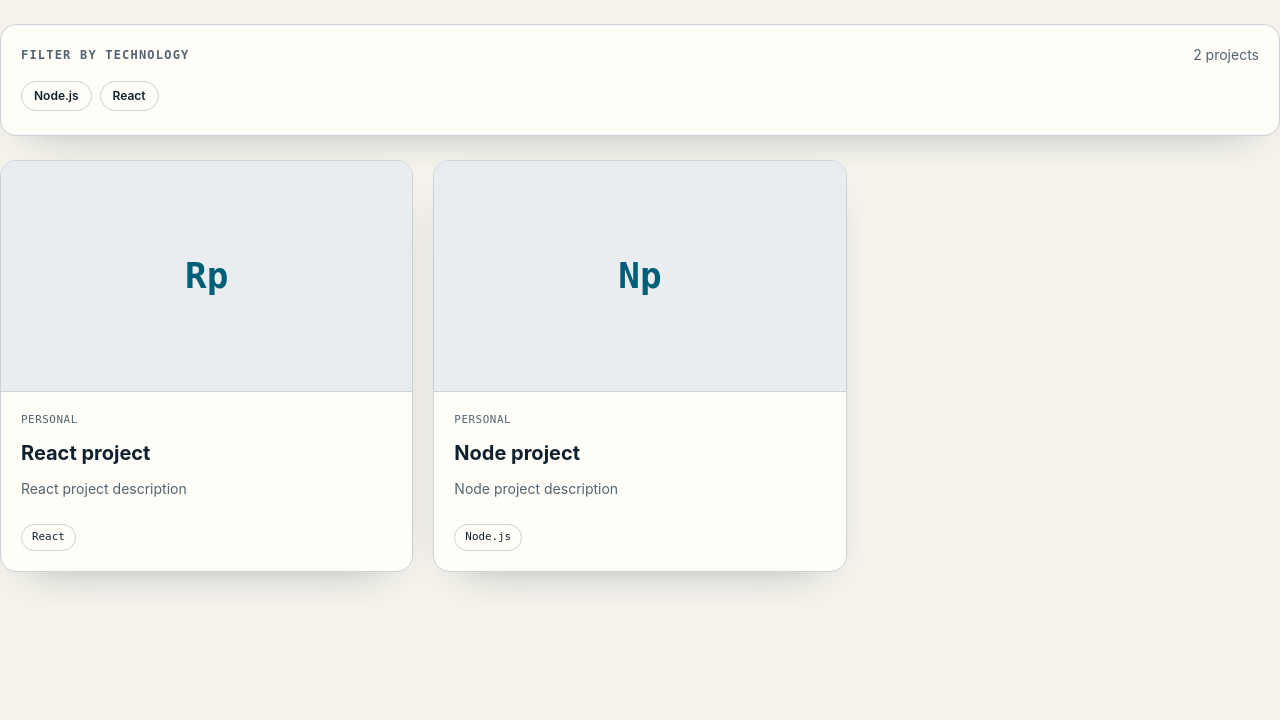
Test: project explorer island › filters cards when a technology is selected
The image size is (1280, 720).
Click the button "React": (129, 96) [100, 81, 159, 111]
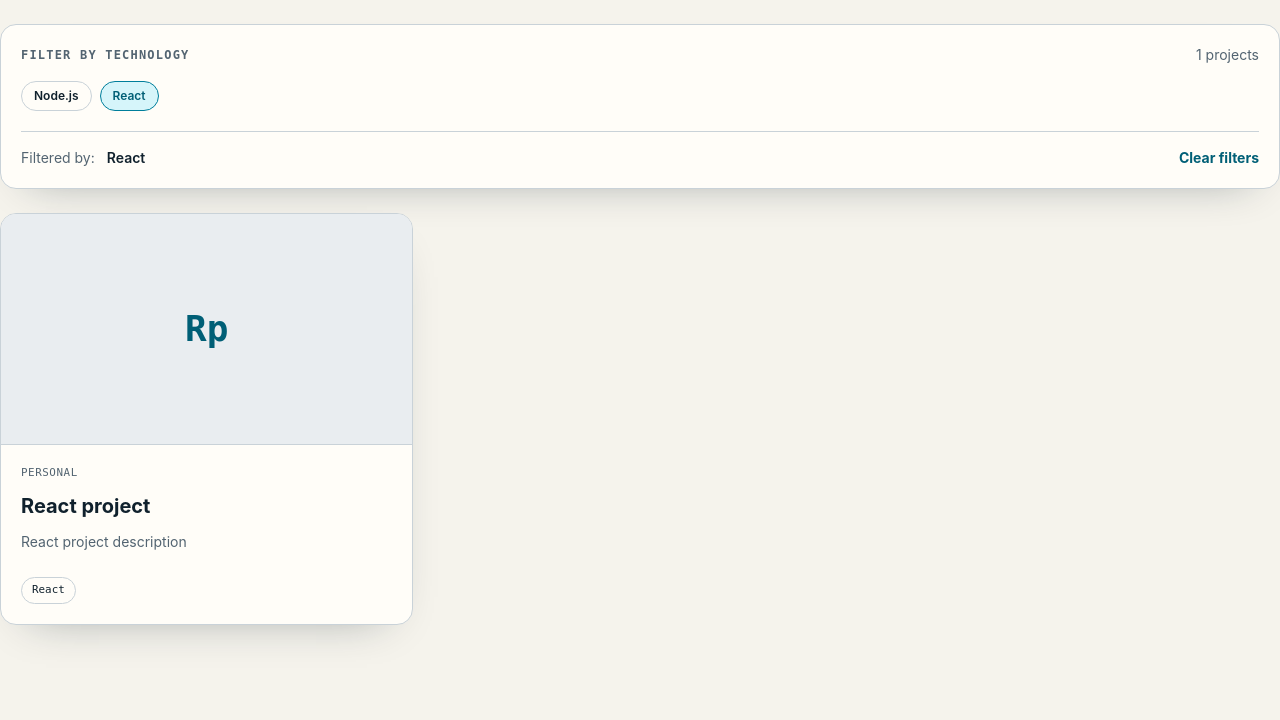
Expected: the link with aria-label "View Project React project" is shown, [1, 214, 412, 561]
Expected: the text "Filtered by:" is shown, [21, 148, 95, 168]
